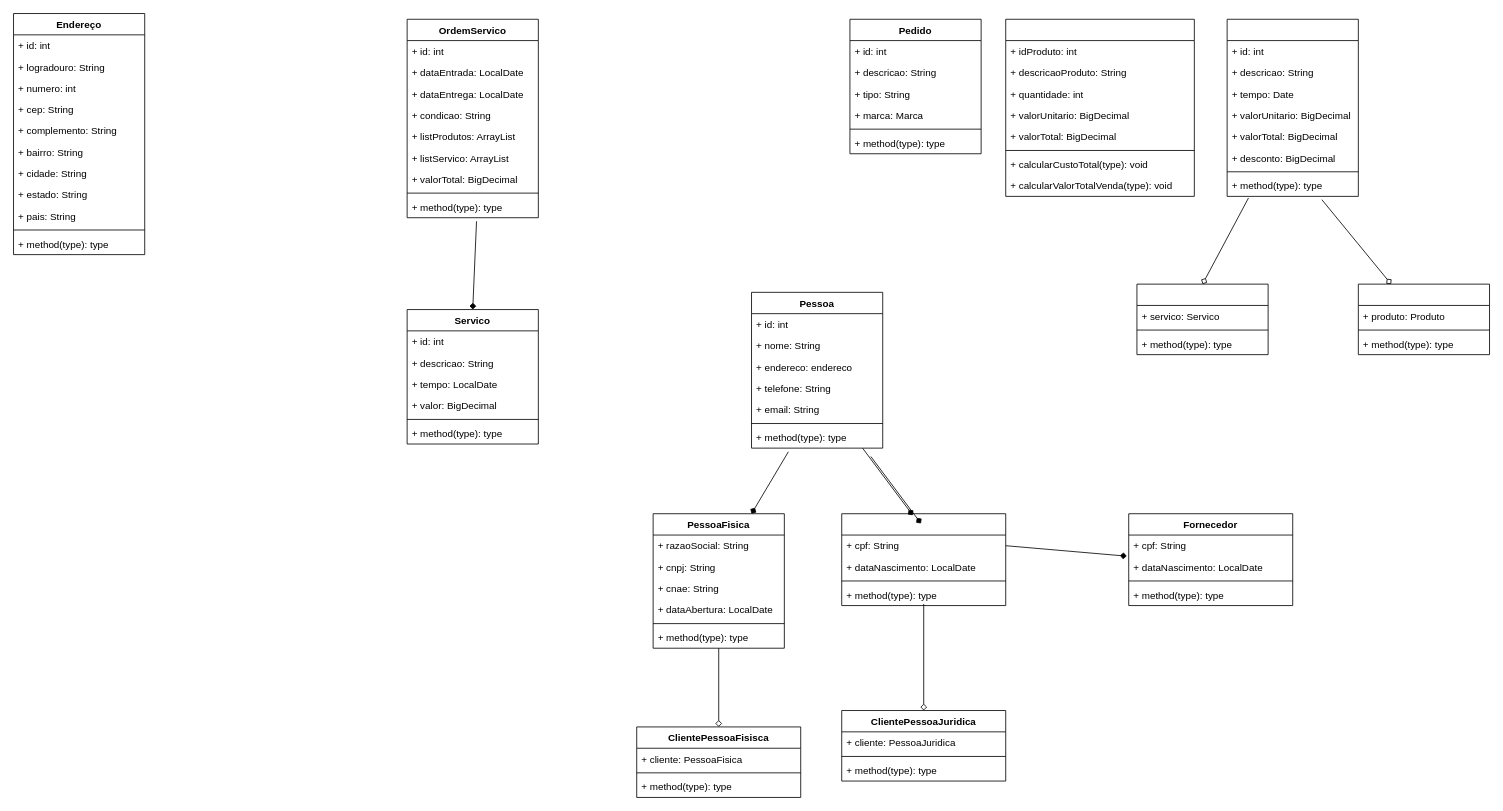
Some shapes in this 1503 by 811 pixel diagram are drawn without their labels. Each missing label, with the box of its shape:
Estoque: (1005, 18, 1194, 196)
Item: (1226, 18, 1358, 196)
ItemProduto: (1358, 283, 1490, 355)
ItemServico: (1136, 283, 1268, 355)
PessoaJuridica: (841, 513, 1006, 606)
